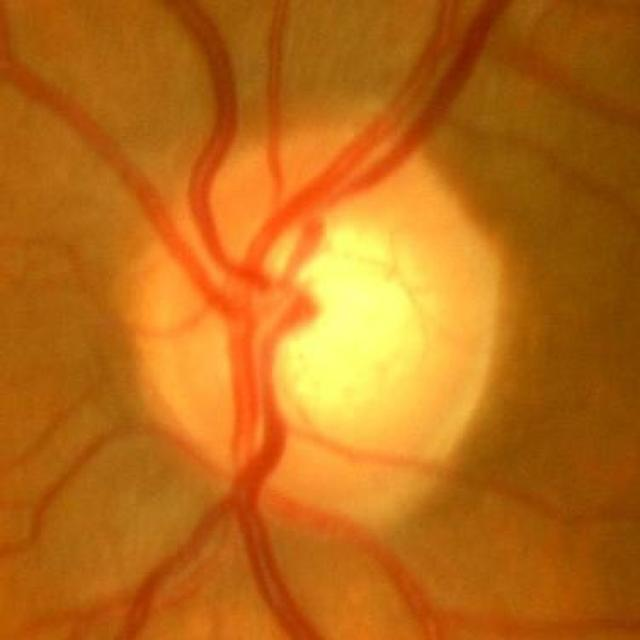OC: (261, 212, 434, 411)
OD: (123, 118, 498, 529)
